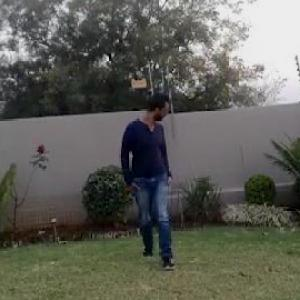follow: (121, 80, 187, 288)
